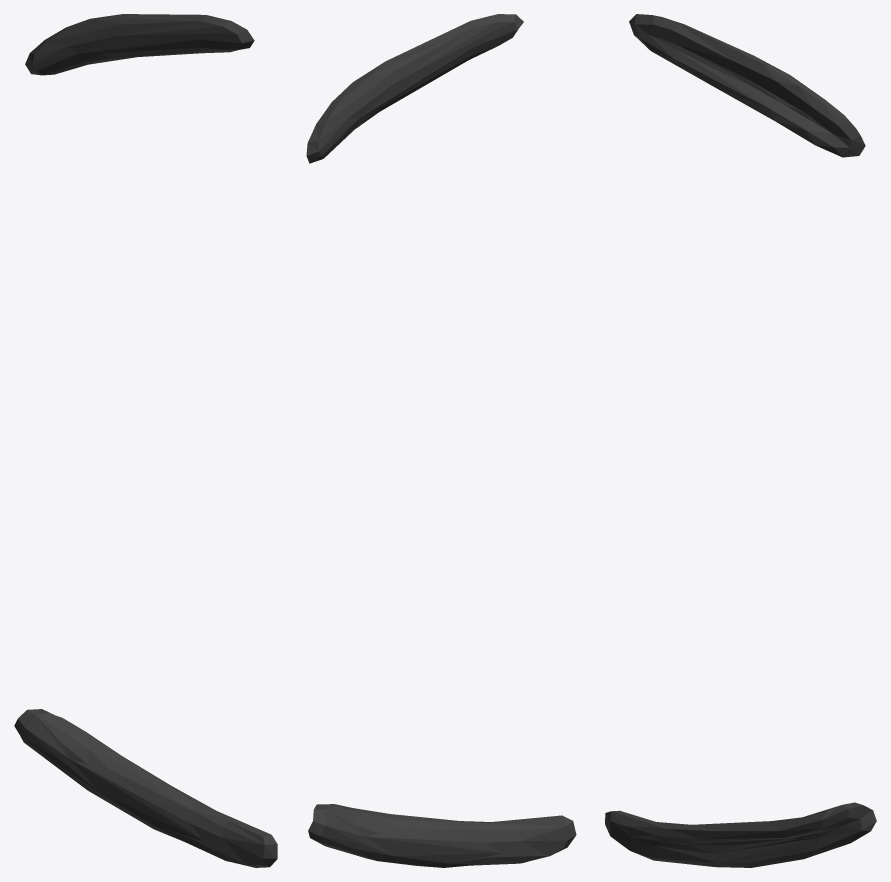
The model's file is Pelvis_arcuate_line.glb.
The picture shows the model from 3 angles, left to right: view 1: azimuth 90°, elevation 25°; view 2: azimuth 150°, elevation 25°; view 3: azimuth 270°, elevation 25°; orthographic projection. The views are drawn at different scales.
Parts seen in each view (by area): view 1: Pelvis_arcuate_line; view 2: Pelvis_arcuate_line; view 3: Pelvis_arcuate_line.
Part boxes in pixels (x1,y1,x2,y2): Pelvis_arcuate_line: [14, 14, 277, 867]; Pelvis_arcuate_line: [306, 14, 576, 867]; Pelvis_arcuate_line: [605, 14, 876, 867].
Bounding box in the file's own units: 0.5382 × 2.96 × 0.8517.
Materials: 1 (1 with a texture image).
